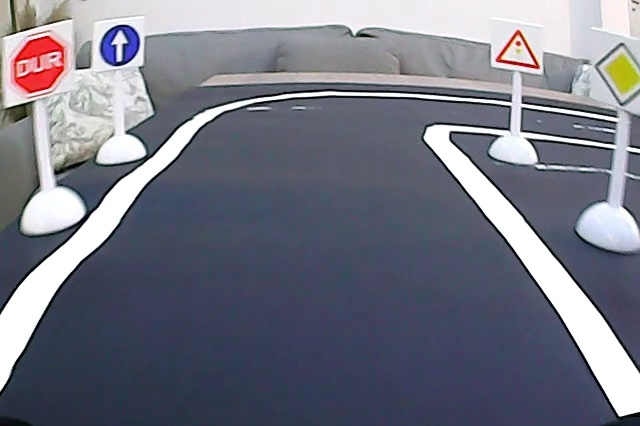red light: (494, 21, 544, 74)
stop sign: (9, 34, 70, 100)
